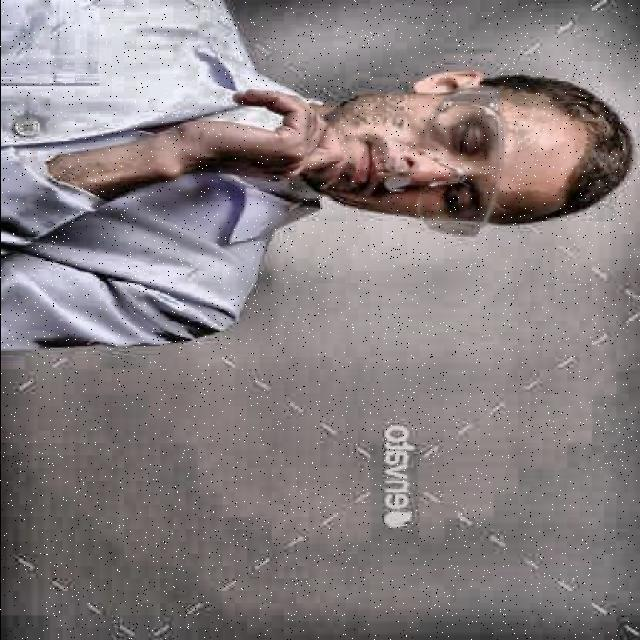Goggles: (408, 75, 511, 243)
